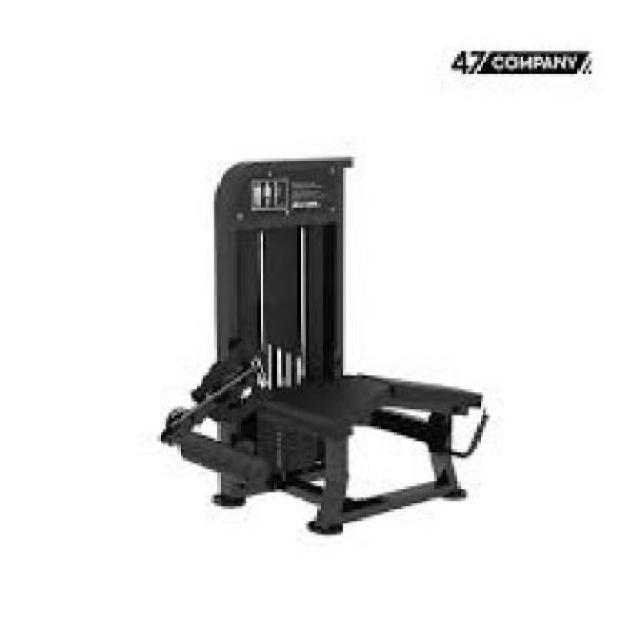reg curl machine: (155, 155, 497, 537)
